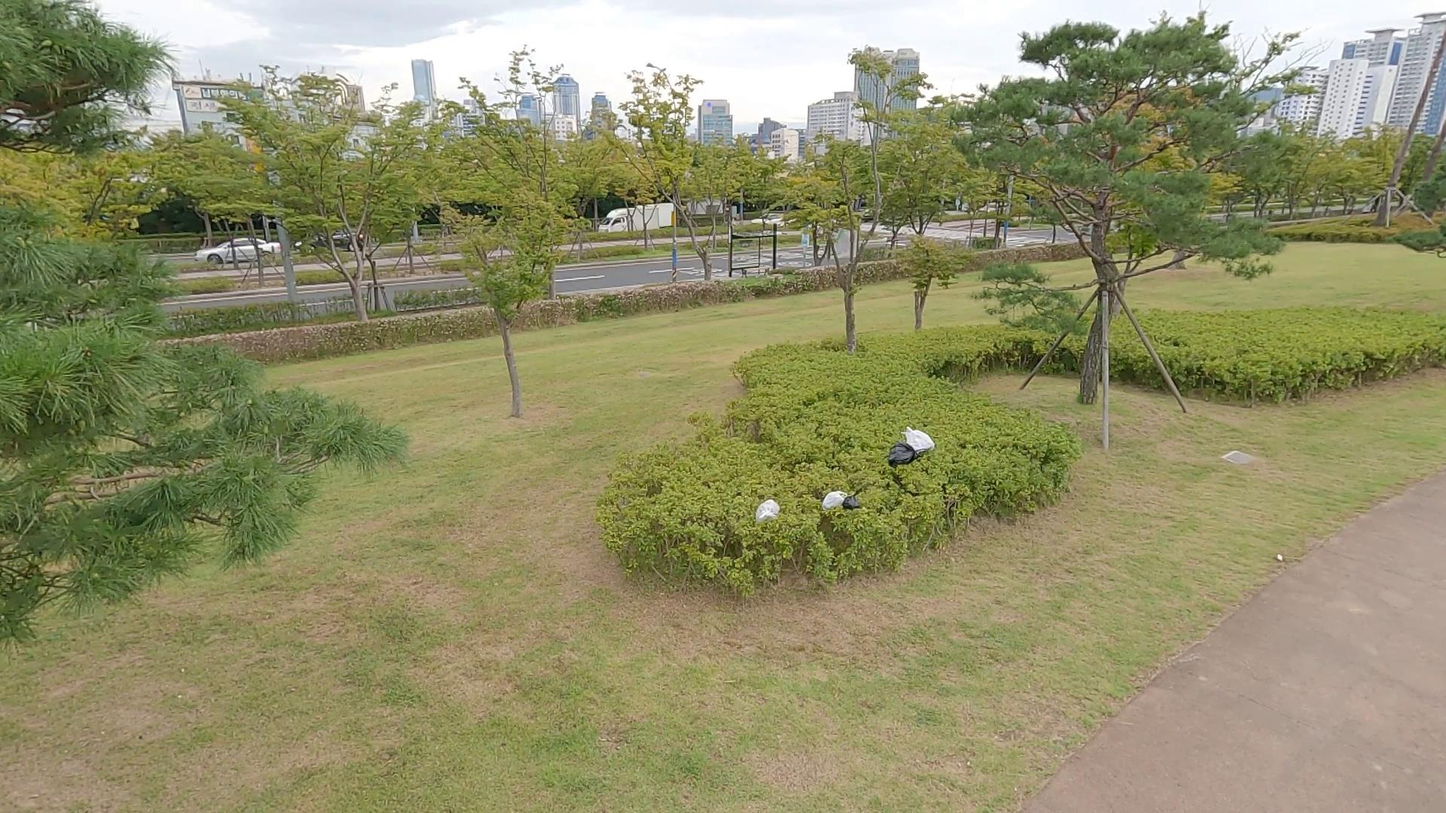trash: (906, 425, 937, 458), (889, 443, 916, 468), (754, 499, 781, 521), (824, 491, 851, 511), (841, 492, 863, 513)
